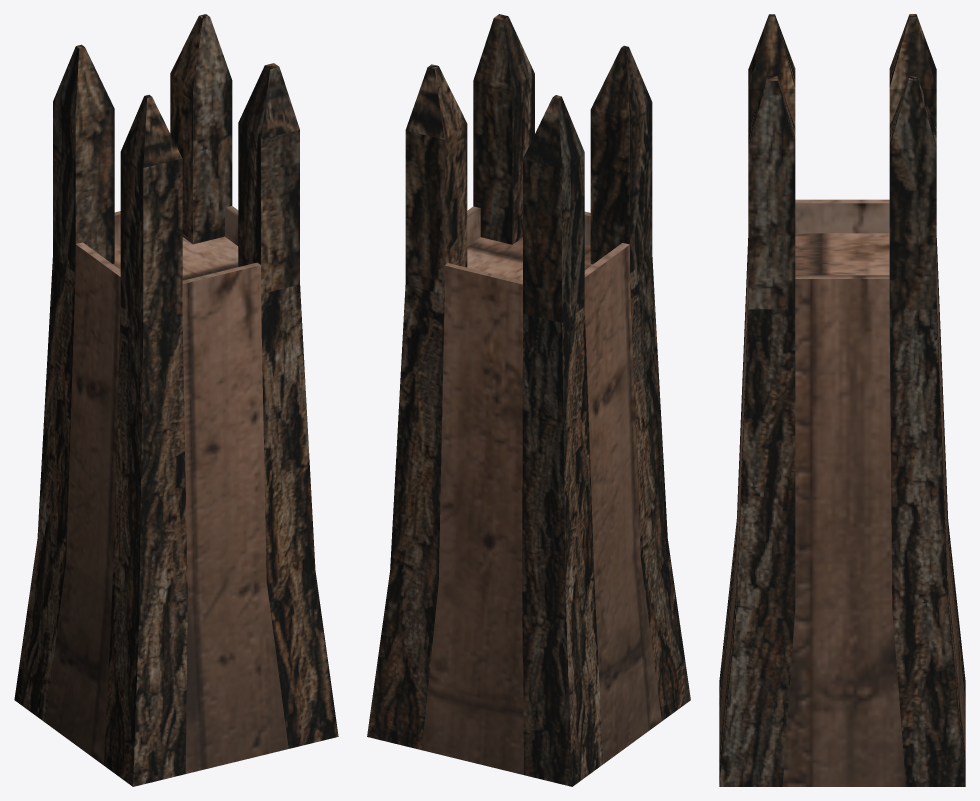
Rendered from Tower.fbx.
3 renders of one model, left to right at view 1: azimuth 30°, elevation 25°; view 2: azimuth 150°, elevation 25°; view 3: azimuth 270°, elevation 25°, orthographic. The views are drawn at different scales.
Visible parts, largest first — view 1: Cube; view 2: Cube; view 3: Cube.
Boxes of the visible parts, x1,y1,x2,y2 form: Cube: (14, 14, 338, 786); Cube: (367, 14, 690, 786); Cube: (719, 14, 965, 786).
Bounding box in the file's own units: 262 × 807 × 262.
